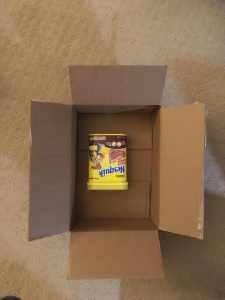innerbox: (70, 104, 159, 231)
outerbox: (30, 66, 203, 277)
product: (85, 134, 130, 187)
